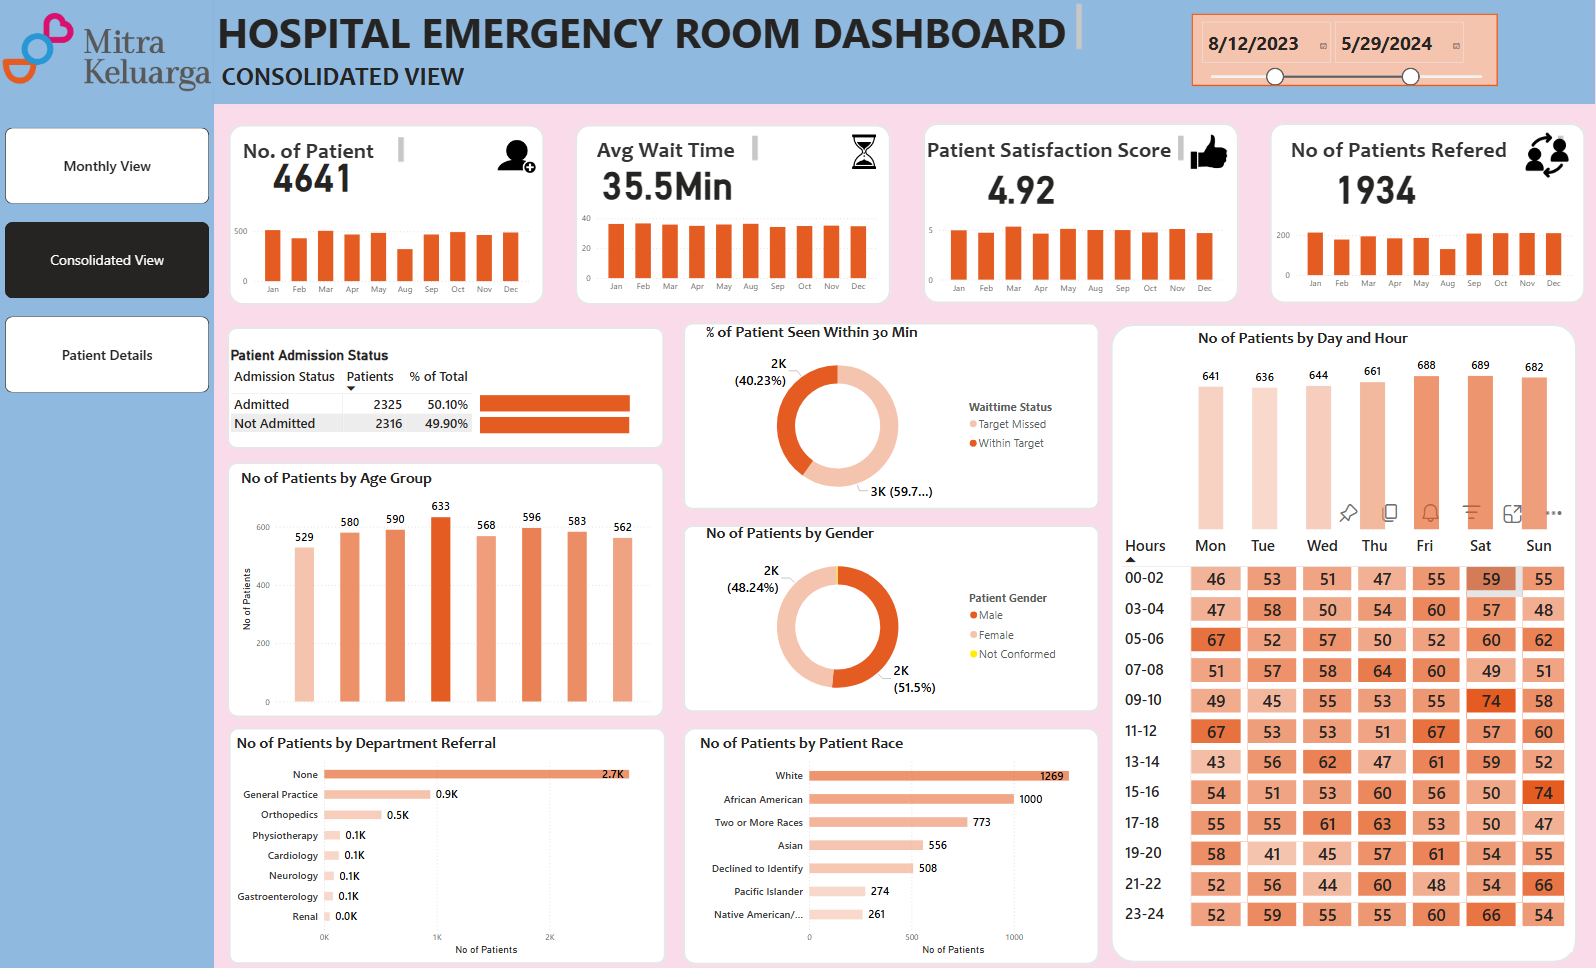

What the dashboard file says about the page in this screenshot:
{"tool":"powerbi","page":{"name":"Consolidated View ","canvas":[2300,1400],"ordinal":1},"visuals":[{"type":"shape","box":[0,0,310,1400],"z":0},{"type":"shape","box":[310,0,1990,150],"z":1000},{"type":"textbox","box":[310,0,1255.7,81.4],"z":2000},{"type":"textbox","box":[314.8,81.9,371.5,59.8],"z":3000},{"type":"slicer","fields":{"Values":["Date Table.Date"]},"box":[1718,19.8,441.5,104.7],"z":4000},{"type":"shape","box":[330.5,178.7,455,260],"z":5000},{"type":"card","fields":{"Values":["Hospital ER_Data.No of Patients"]},"box":[224,150,456,200],"z":6000},{"type":"textbox","box":[345,192.5,242.5,47.5],"z":7000},{"type":"columnChart","fields":{"Category":["Date Table.Month Name"],"Y":["Hospital ER_Data.No of Patients"]},"box":[333,304.3,436,130],"z":8000},{"type":"shape","box":[830.3,178.7,455,260],"z":9000},{"type":"card","fields":{"Values":["Hospital ER_Data.Avg Wait Time"]},"box":[734,160,456,200],"z":10000},{"type":"textbox","box":[855,190,242.5,47.5],"z":11000},{"type":"columnChart","fields":{"Category":["Date Table.Month Name"],"Y":["Avg(Hospital ER_Data.Patient Waittime)"]},"box":[833.4,299.4,436,130],"z":12000},{"type":"shape","box":[1330.2,177.5,455,260],"z":13000},{"type":"card","fields":{"Values":["Hospital ER_Data.Satisfaction Score"]},"box":[1244,166,456,200],"z":14000},{"type":"shape","box":[1830,177.5,455,260],"z":15000},{"type":"textbox","box":[1330,190,380,47.5],"z":16000},{"type":"columnChart","fields":{"Y":["Hospital ER_Data.Satisfaction Score"],"Category":["Date Table.Month Name"]},"box":[1333.9,301.9,436,130],"z":17000},{"type":"card","fields":{"Values":["Hospital ER_Data.No of Patient Referred"]},"box":[1754,166,456,200],"z":18000},{"type":"textbox","box":[1855,190,402.5,47.5],"z":19000},{"type":"columnChart","fields":{"Category":["Date Table.Month Name"],"Y":["Hospital ER_Data.No of Patient Referred"]},"box":[1834.3,297,436.7,130],"z":20000},{"type":"shape","box":[328,470,630,176],"z":21000},{"type":"pivotTable","title":"Patient Admission Status","fields":{"Rows":["Hospital ER_Data.Admission Status"],"Values":["Hospital ER_Data.No of Patients1","Hospital ER_Data.No of Patients"]},"box":[327.5,500,611.2,146.2],"z":22000},{"type":"barChart","fields":{"Category":["Hospital ER_Data.Admission Status"],"Y":["Hospital ER_Data.No of Patients"]},"box":[688,540,289,106],"z":23000},{"type":"shape","box":[328.3,664.7,630,368],"z":24000},{"type":"clusteredColumnChart","fields":{"Category":["Hospital ER_Data.Age Group"],"Y":["Hospital ER_Data.No of Patients"]},"box":[343.8,673.8,601.2,350],"z":25000},{"type":"shape","box":[330,1047.5,630,341.2],"z":26000},{"type":"clusteredBarChart","fields":{"Category":["Hospital ER_Data.Department Referral"],"Y":["Hospital ER_Data.No of Patients"]},"box":[336,1056,616,324],"z":27000},{"type":"shape","box":[985,465,600,270],"z":28000},{"type":"donutChart","title":"% of Patient Seen Within 30 Min","fields":{"Category":["Hospital ER_Data.Waittime Status"],"Y":["Hospital ER_Data.No of Patients"]},"box":[1013.8,465,522.5,270],"z":29000},{"type":"shape","box":[985,756.7,600,270],"z":30000},{"type":"donutChart","title":"No of Patients by Gender","fields":{"Y":["Hospital ER_Data.No of Patients"],"Category":["Hospital ER_Data.Patient Gender"]},"box":[1012.5,753.8,523.8,270],"z":31000},{"type":"shape","box":[985,1048.3,600,341.7],"z":32000},{"type":"clusteredBarChart","fields":{"Y":["Hospital ER_Data.No of Patients"],"Category":["Hospital ER_Data.Patient Race"]},"box":[1003.8,1056.2,595,323.8],"z":33000},{"type":"shape","box":[1602,466,672,920],"z":34000},{"type":"pivotTable","fields":{"Rows":["Hospital ER_Data.Waittime Interval"],"Columns":["Date Table.Day Name"],"Values":["Hospital ER_Data.No of Patients"]},"box":[1611.2,765,655,606.2],"z":35000},{"type":"columnChart","title":"No of Patients by Day and Hour","fields":{"Category":["Date Table.Day Name"],"Y":["Hospital ER_Data.No of Patients"]},"box":[1721.2,472.5,515,295],"z":36000},{"type":"image","box":[0,0,310,150],"z":37000},{"type":"image","box":[712.5,187.5,65,75],"z":38000},{"type":"image","box":[1202.5,185,85,65],"z":39000},{"type":"image","box":[1710,177.5,65,87.5],"z":40000},{"type":"image","box":[2172.5,185,112.5,75],"z":41000},{"type":"pageNavigator","box":[8.5,184,294.3,384.9],"z":42000}]}

Visuals, with their boxes in screenshot pixels (x1, y1, x2, y2), scaled from the page's 2300x1400 canvas onto the 1596x968 screenshot:
shape: left=0, top=0, right=215, bottom=967
shape: left=215, top=0, right=1595, bottom=104
textbox: left=215, top=0, right=1086, bottom=56
textbox: left=218, top=57, right=476, bottom=98
slicer - Date Table.Date: left=1192, top=14, right=1499, bottom=86
shape: left=229, top=124, right=545, bottom=303
card - Hospital ER_Data.No of Patients: left=155, top=104, right=472, bottom=242
textbox: left=239, top=133, right=408, bottom=166
columnChart - Date Table.Month Name x Hospital ER_Data.No of Patients: left=231, top=210, right=534, bottom=300
shape: left=576, top=124, right=892, bottom=303
card - Hospital ER_Data.Avg Wait Time: left=509, top=111, right=826, bottom=249
textbox: left=593, top=131, right=762, bottom=164
columnChart - Date Table.Month Name x Avg(Hospital ER_Data.Patient Waittime): left=578, top=207, right=881, bottom=297
shape: left=923, top=123, right=1239, bottom=302
card - Hospital ER_Data.Satisfaction Score: left=863, top=115, right=1180, bottom=253
shape: left=1270, top=123, right=1586, bottom=302
textbox: left=923, top=131, right=1187, bottom=164
columnChart - Hospital ER_Data.Satisfaction Score x Date Table.Month Name: left=926, top=209, right=1228, bottom=299
card - Hospital ER_Data.No of Patient Referred: left=1217, top=115, right=1534, bottom=253
textbox: left=1287, top=131, right=1567, bottom=164
columnChart - Date Table.Month Name x Hospital ER_Data.No of Patient Referred: left=1273, top=205, right=1576, bottom=295
shape: left=228, top=325, right=665, bottom=447
"Patient Admission Status" pivotTable: left=227, top=346, right=651, bottom=447
barChart - Hospital ER_Data.Admission Status x Hospital ER_Data.No of Patients: left=477, top=373, right=678, bottom=447
shape: left=228, top=460, right=665, bottom=714
clusteredColumnChart - Hospital ER_Data.Age Group x Hospital ER_Data.No of Patients: left=239, top=466, right=656, bottom=708
shape: left=229, top=724, right=666, bottom=960
clusteredBarChart - Hospital ER_Data.Department Referral x Hospital ER_Data.No of Patients: left=233, top=730, right=661, bottom=954
shape: left=684, top=322, right=1100, bottom=508
"% of Patient Seen Within 30 Min" donutChart: left=703, top=322, right=1066, bottom=508
shape: left=684, top=523, right=1100, bottom=710
"No of Patients by Gender" donutChart: left=703, top=521, right=1066, bottom=708
shape: left=684, top=725, right=1100, bottom=961
clusteredBarChart - Hospital ER_Data.No of Patients x Hospital ER_Data.Patient Race: left=697, top=730, right=1109, bottom=954
shape: left=1112, top=322, right=1578, bottom=958
pivotTable - Hospital ER_Data.Waittime Interval x Date Table.Day Name: left=1118, top=529, right=1573, bottom=948
"No of Patients by Day and Hour" columnChart: left=1194, top=327, right=1552, bottom=531
image: left=0, top=0, right=215, bottom=104
image: left=494, top=130, right=540, bottom=182
image: left=834, top=128, right=893, bottom=173
image: left=1187, top=123, right=1232, bottom=183
image: left=1508, top=128, right=1586, bottom=180
pageNavigator: left=6, top=127, right=210, bottom=393
